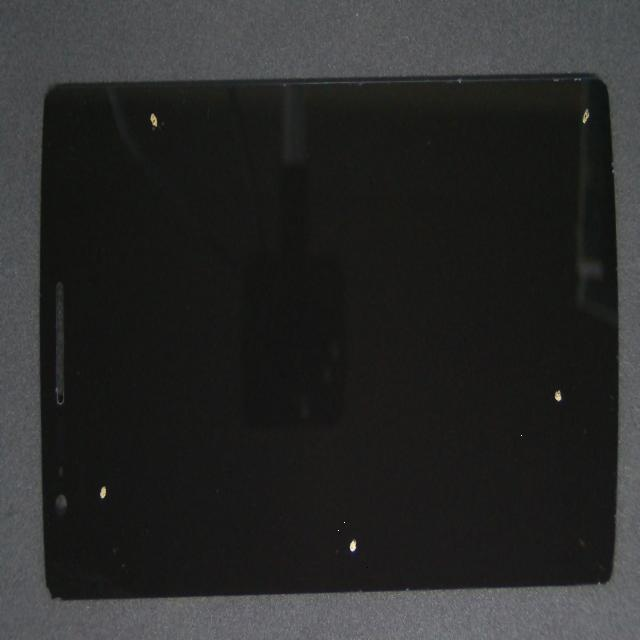stain: (289, 220, 640, 640), (170, 216, 503, 640), (280, 73, 640, 219), (40, 261, 146, 640), (74, 16, 219, 169)
